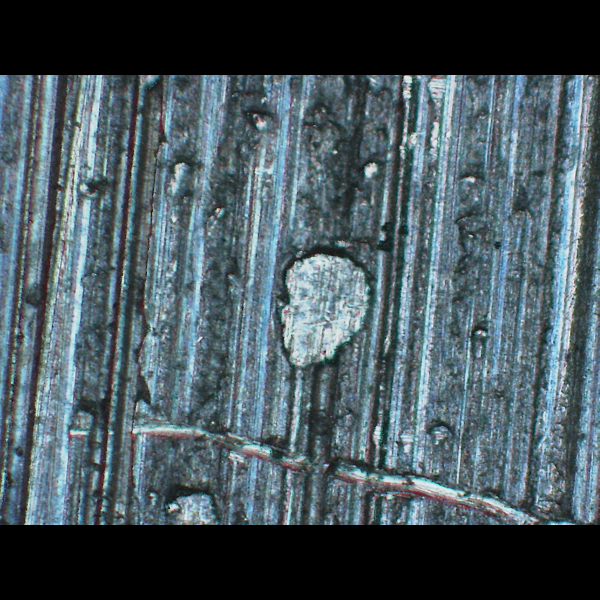d: (66, 407, 556, 524), (273, 237, 380, 379)
